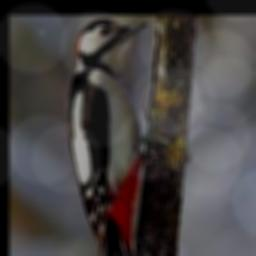Woodpecker: (67, 18, 163, 256)
